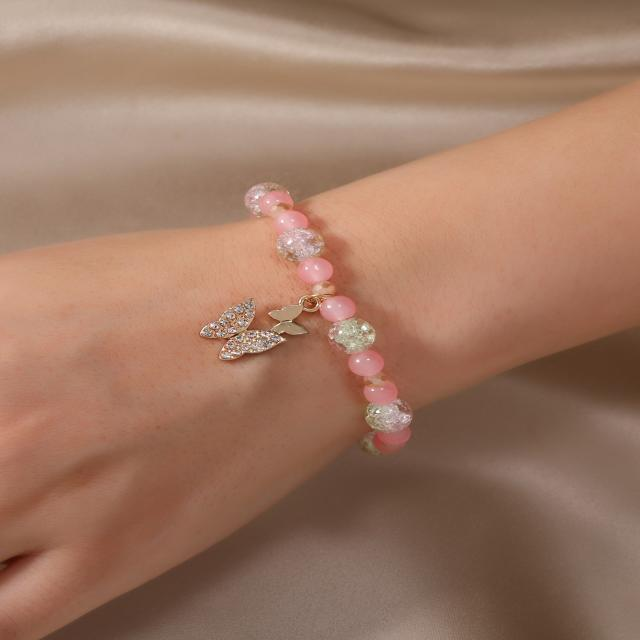bracelet: (162, 138, 472, 514)
